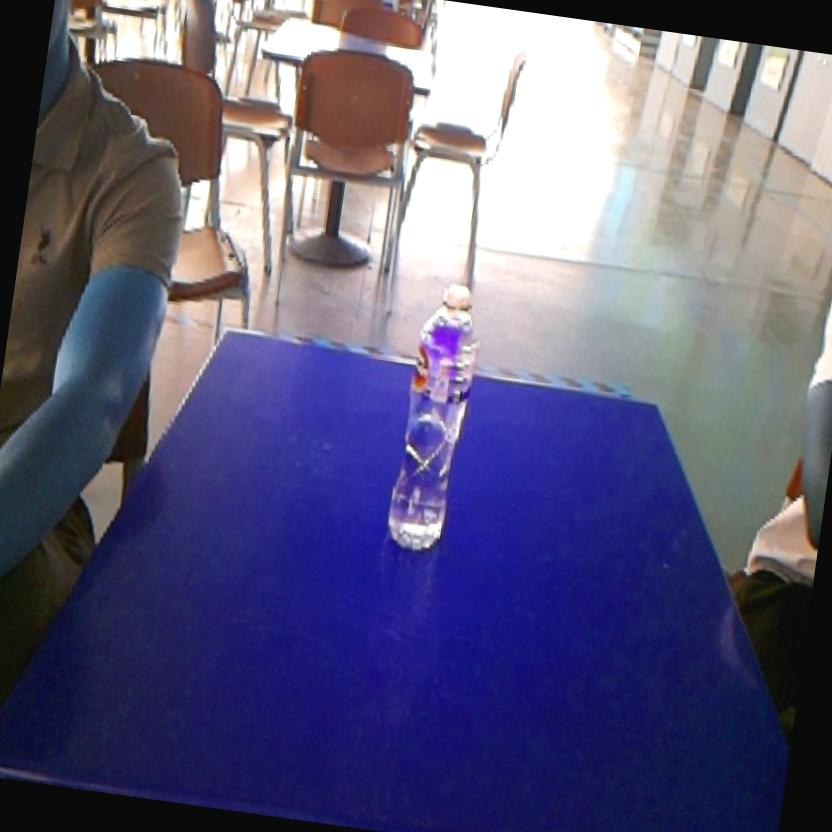no_cap: (372, 267, 495, 568)
